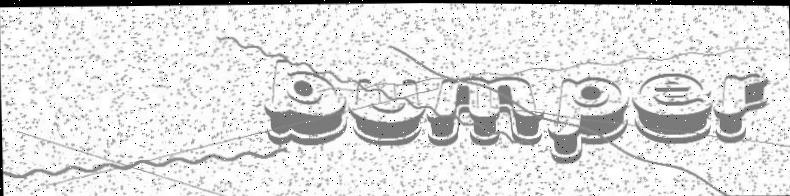b: (260, 56, 349, 147)
e: (630, 69, 712, 144)
m: (424, 74, 543, 150)
p: (545, 74, 629, 164)
r: (712, 70, 772, 143)
u: (348, 77, 423, 149)
